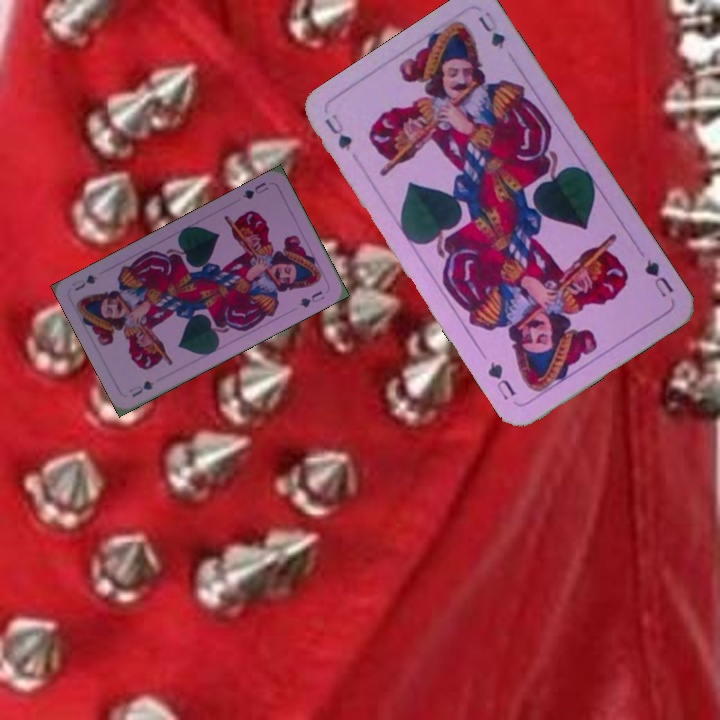GU: (640, 255, 676, 300), (321, 109, 355, 155), (239, 178, 271, 202), (125, 376, 157, 400)
